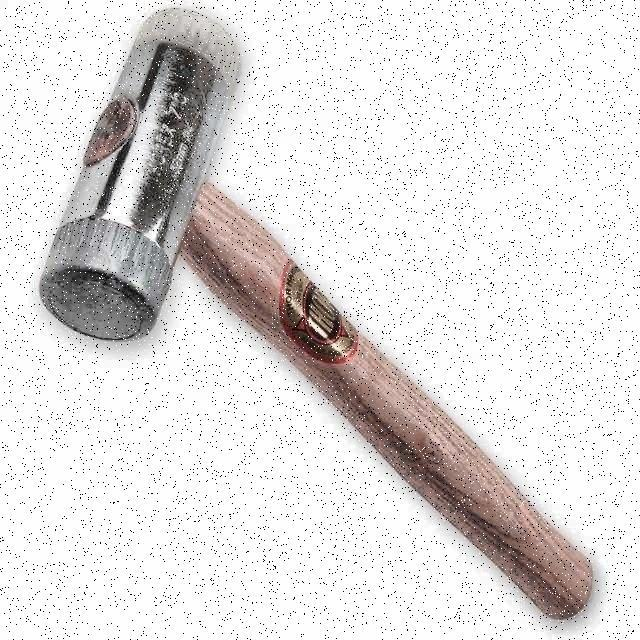hammer: (34, 3, 598, 625)
